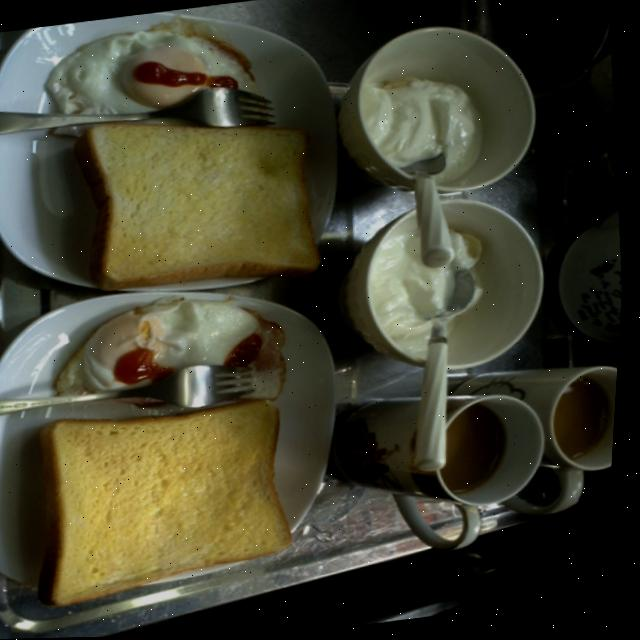面包点心: (19, 383, 295, 616), (74, 115, 328, 288)
鸡蛋料理: (60, 14, 256, 110), (60, 294, 266, 373)
